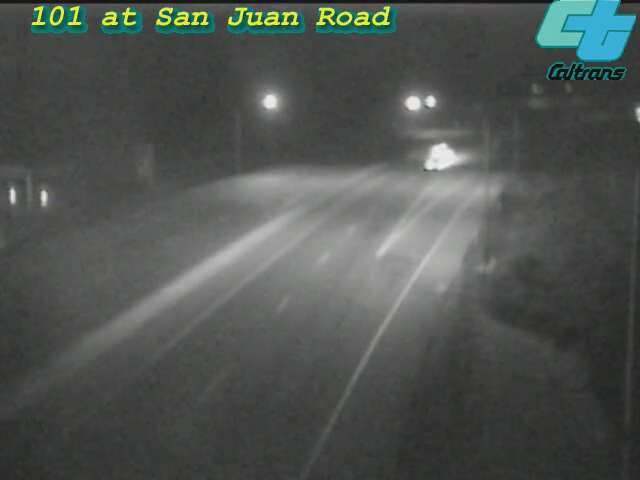vehicle: (400, 117, 480, 197)
